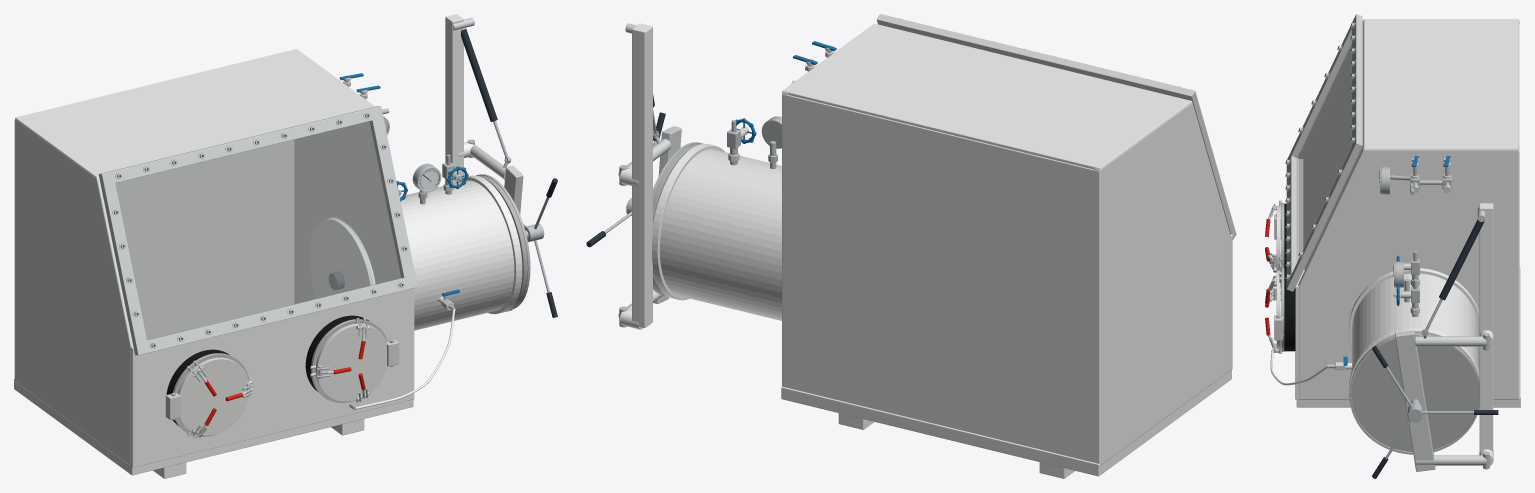
Rendered from INS0016.glb.
3 views of the same model, side by side, from view 1: azimuth 30°, elevation 25°; view 2: azimuth 150°, elevation 25°; view 3: azimuth 270°, elevation 25° (orthographic). The views are drawn at different scales.
Parts seen in each view (by area): view 1: INS0016__observation_glass, INS0016__left_chamber_wall, INS0016__rear_wall_inner_finish, INS0016__chamber_roof, INS0016__front_glove_port_panel, INS0016__transfer_chamber_tube, INS0016__right_wall_inner_finish, INS0016__glove_port_1_cover, INS0016__glove_port_0_cover, INS0016__transfer_inner_door, INS0016__chamber_work_floor, INS0016__window_upper_frame (+11 smaller); view 2: INS0016__chamber_rear_wall, INS0016__left_chamber_wall, INS0016__chamber_roof, INS0016__transfer_chamber_tube, INS0016__outer_door_hinge_upright, INS0016__chamber_work_floor, INS0016__window_upper_frame, INS0016__transfer_chamber_flange_0.998, INS0016__window_side_frame_-0.527; view 3: INS0016__right_chamber_wall, INS0016__chamber_roof, INS0016__transfer_outer_door, INS0016__transfer_chamber_tube, INS0016__observation_glass, INS0016__left_wall_inner_finish, INS0016__outer_door_hinge_upright, INS0016__outer_door_locking_yoke, INS0016__window_upper_frame, INS0016__window_side_frame_0.527, INS0016__window_lower_frame, INS0016__window_side_frame_-0.527 (+13 smaller).
Boxes of the visible parts, box(x1,y1,x2,y2) form: INS0016__observation_glass: box(115, 121, 400, 339); INS0016__left_chamber_wall: box(15, 119, 133, 465); INS0016__rear_wall_inner_finish: box(115, 140, 294, 339); INS0016__chamber_roof: box(15, 49, 374, 177); INS0016__front_glove_port_panel: box(131, 288, 414, 467); INS0016__transfer_chamber_tube: box(336, 180, 514, 330); INS0016__right_wall_inner_finish: box(294, 121, 400, 303); INS0016__glove_port_1_cover: box(315, 323, 387, 401); INS0016__glove_port_0_cover: box(177, 357, 248, 435); INS0016__transfer_inner_door: box(310, 218, 373, 298); INS0016__chamber_work_floor: box(14, 379, 413, 475); INS0016__window_upper_frame: box(98, 106, 383, 185); INS0016__chamber_rear_wall: box(782, 94, 1102, 466); INS0016__left_chamber_wall: box(1094, 102, 1230, 465); INS0016__chamber_roof: box(782, 23, 1191, 169); INS0016__transfer_chamber_tube: box(659, 149, 781, 320); INS0016__outer_door_hinge_upright: box(632, 23, 652, 327); INS0016__chamber_work_floor: box(781, 369, 1231, 476); INS0016__window_upper_frame: box(876, 14, 1197, 105); INS0016__transfer_chamber_flange_0.998: box(652, 143, 724, 300); INS0016__window_side_frame_-0.527: box(1179, 94, 1233, 233); INS0016__right_chamber_wall: box(1298, 148, 1519, 399); INS0016__chamber_roof: box(1364, 19, 1518, 150); INS0016__transfer_outer_door: box(1351, 333, 1478, 451); INS0016__transfer_chamber_tube: box(1352, 273, 1478, 369); INS0016__observation_glass: box(1297, 45, 1351, 261); INS0016__left_wall_inner_finish: box(1298, 22, 1519, 269); INS0016__outer_door_hinge_upright: box(1479, 203, 1493, 452); INS0016__outer_door_locking_yoke: box(1395, 330, 1435, 471); INS0016__window_upper_frame: box(1351, 14, 1362, 154); INS0016__window_side_frame_0.527: box(1287, 139, 1357, 288); INS0016__window_lower_frame: box(1286, 156, 1297, 291); INS0016__window_side_frame_-0.527: box(1287, 15, 1355, 159).
Bounding box in the file's own units: 1.59 × 0.971 × 0.7879.
Materials: 15 (1 with a texture image).
